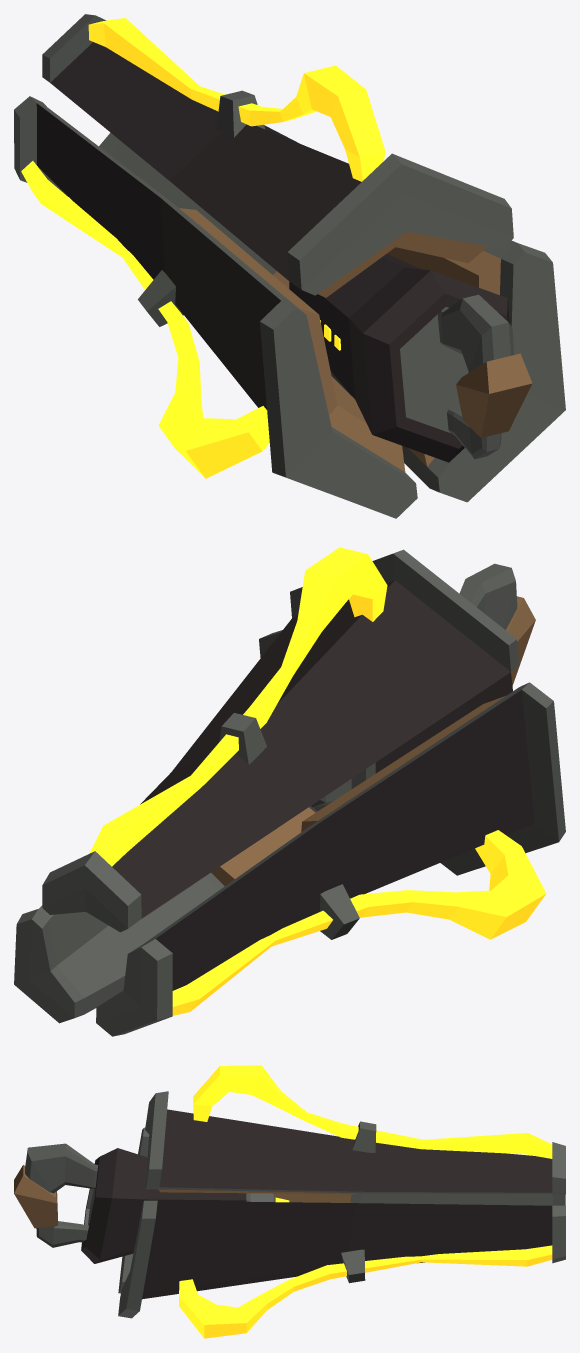
File: Weapon.fbx
3 views of the same model, one above another, from view 1: azimuth 30°, elevation 25°; view 2: azimuth 150°, elevation 25°; view 3: azimuth 270°, elevation 25° (orthographic). The views are drawn at different scales.
Parts seen in each view (by area): view 1: Cube; view 2: Cube; view 3: Cube.
Boxes of the visible parts, bbox=[...] form: Cube: bbox=[14, 14, 565, 518]; Cube: bbox=[14, 547, 565, 1036]; Cube: bbox=[14, 1065, 565, 1338].
Bounding box in the file's own units: 3.18 × 3.11 × 6.59.
